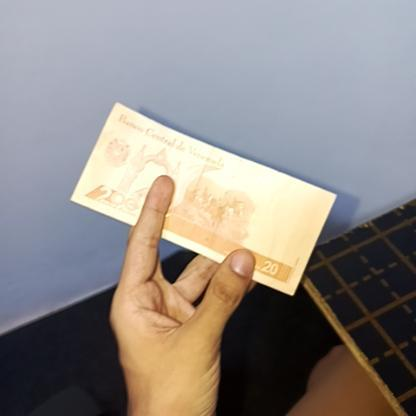twenty-back-vef: (69, 102, 335, 298)
